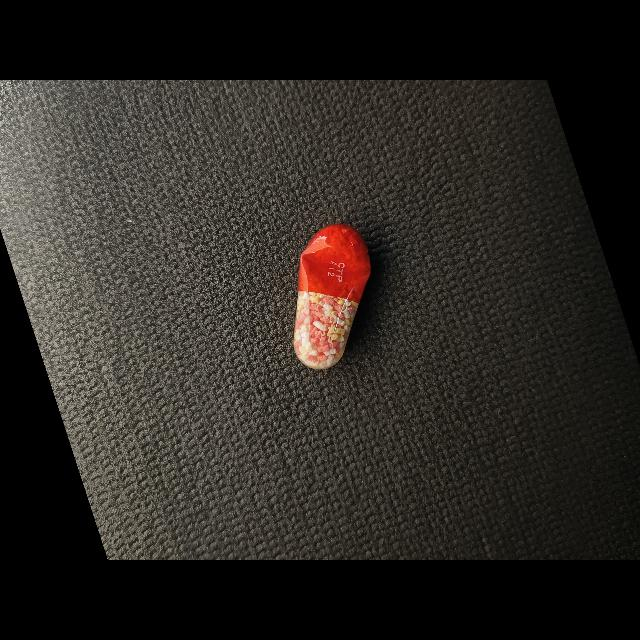Defective Capsule: (294, 225, 371, 370)
